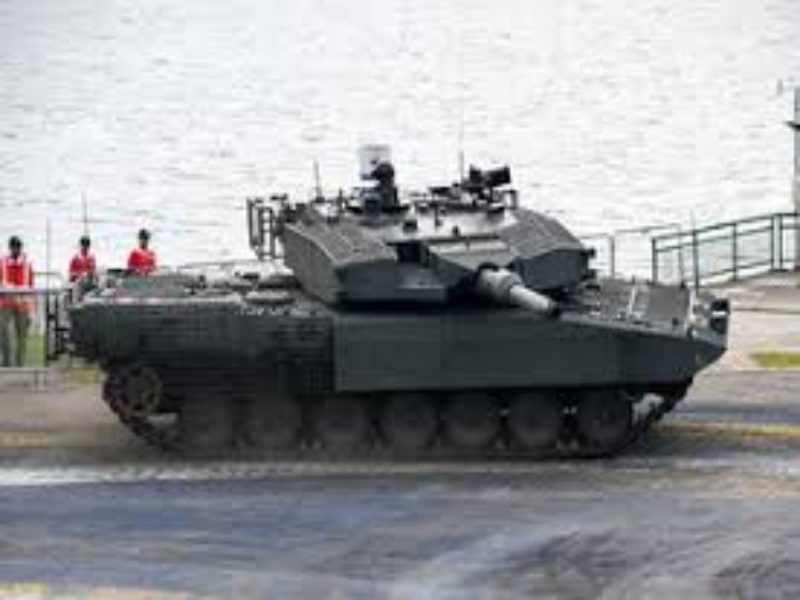tank: (48, 150, 733, 463)
